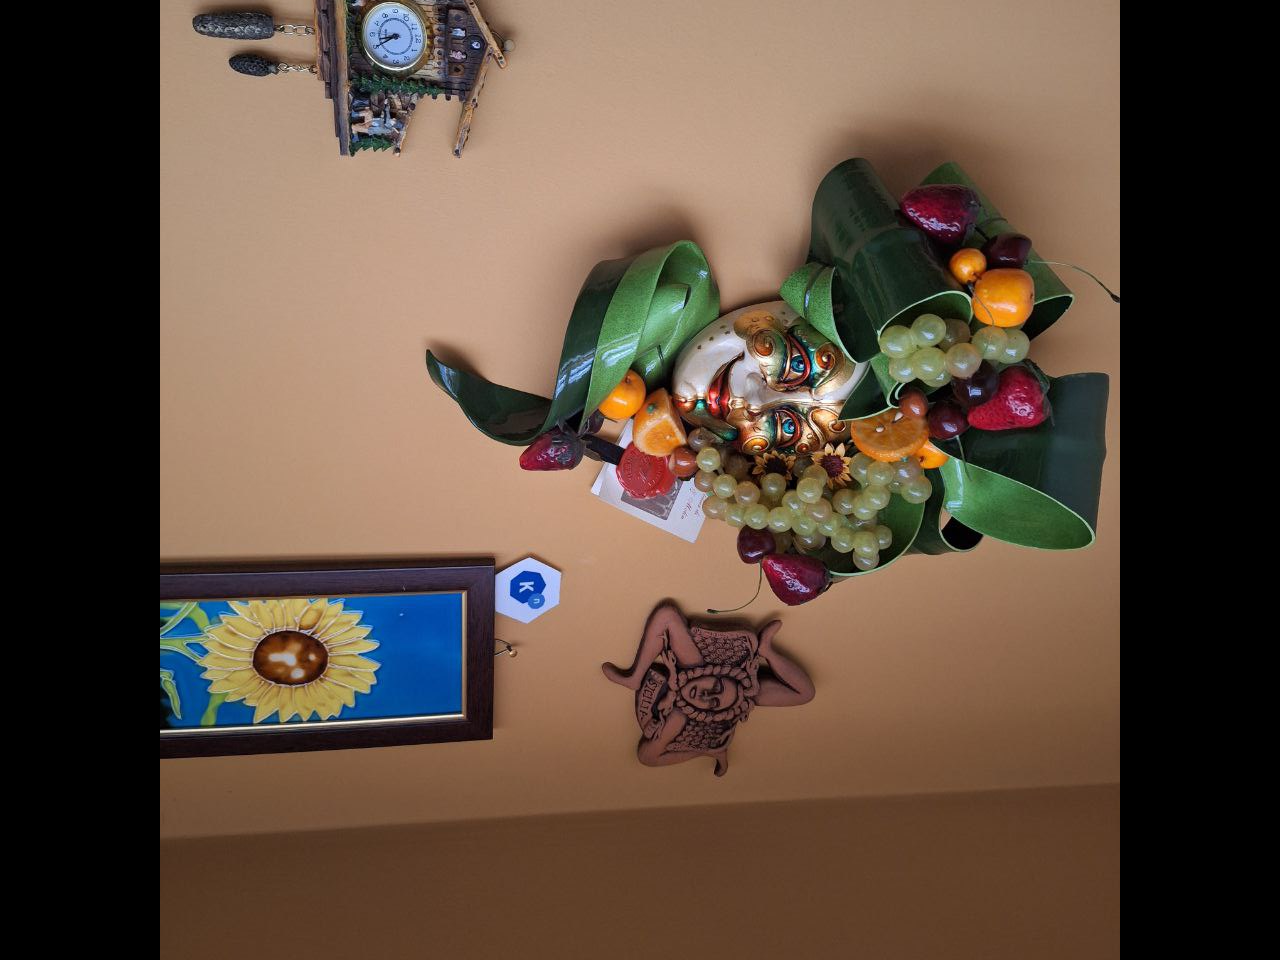knative: (508, 571, 551, 610)
